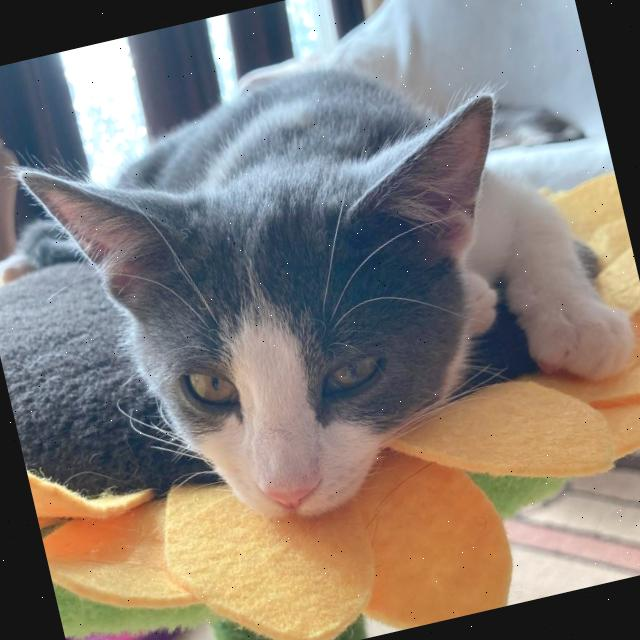american_shorthair_cat: (0, 48, 587, 575)
